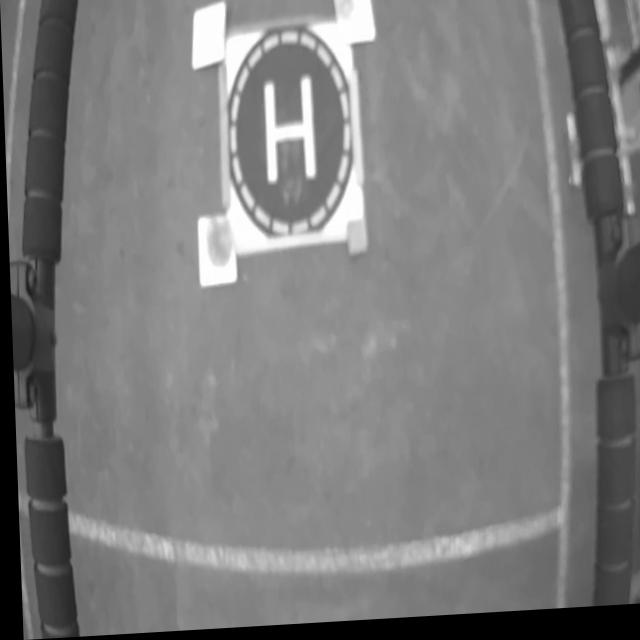Helipad: (263, 80, 316, 193)
